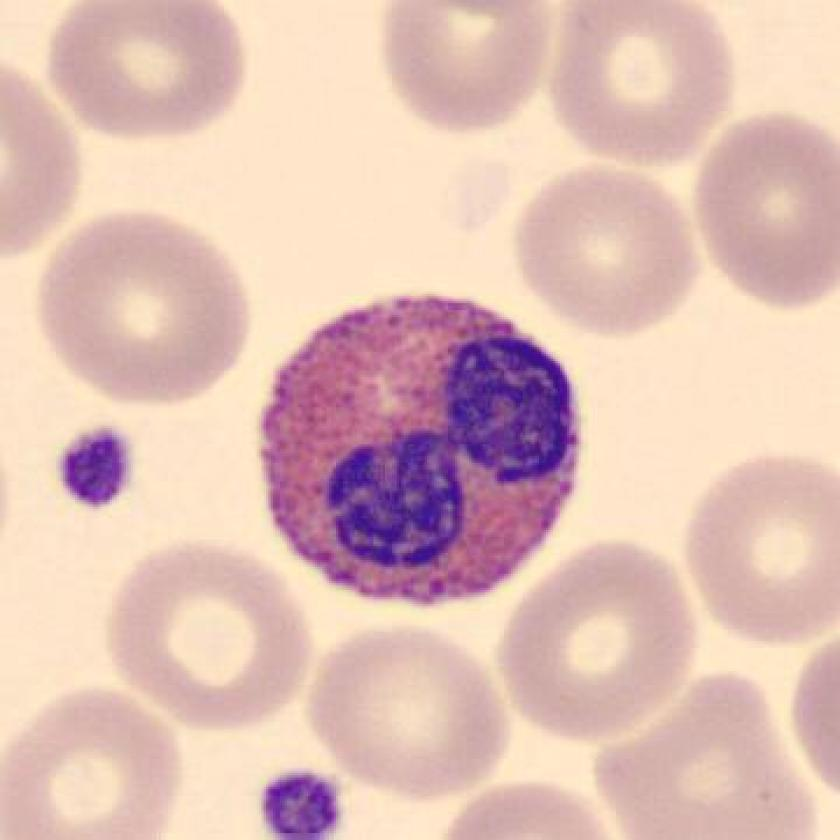eosinophil: (251, 284, 591, 617)
